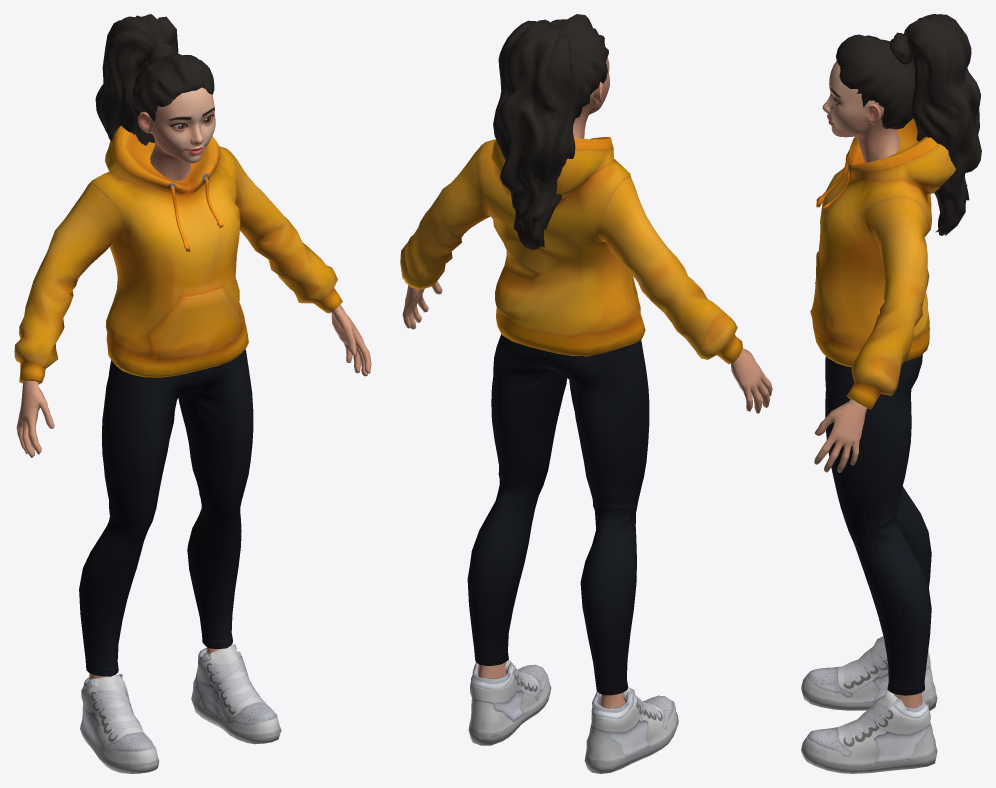
The picture shows the model from 3 angles, left to right: view 1: azimuth 30°, elevation 25°; view 2: azimuth 150°, elevation 25°; view 3: azimuth 270°, elevation 25°; orthographic projection. The views are drawn at different scales.
Visible parts, largest first — view 1: Wolf3D_Outfit_Top, Wolf3D_Outfit_Bottom, Wolf3D_Outfit_Footwear, Wolf3D_Hair, Wolf3D_Head, Wolf3D_Body; view 2: Wolf3D_Outfit_Top, Wolf3D_Outfit_Bottom, Wolf3D_Hair, Wolf3D_Outfit_Footwear, Wolf3D_Body, Wolf3D_Head; view 3: Wolf3D_Outfit_Top, Wolf3D_Outfit_Bottom, Wolf3D_Hair, Wolf3D_Outfit_Footwear, Wolf3D_Head, Wolf3D_Body.
Boxes of the visible parts, box(x1,y1,x2,y2) form: Wolf3D_Outfit_Top: box(14, 125, 342, 384); Wolf3D_Outfit_Bottom: box(79, 349, 253, 676); Wolf3D_Outfit_Footwear: box(80, 644, 281, 773); Wolf3D_Hair: box(95, 14, 214, 145); Wolf3D_Head: box(138, 87, 215, 180); Wolf3D_Body: box(16, 305, 371, 679); Wolf3D_Outfit_Top: box(400, 137, 742, 363); Wolf3D_Outfit_Bottom: box(467, 334, 649, 695); Wolf3D_Hair: box(493, 14, 608, 250); Wolf3D_Outfit_Footwear: box(468, 659, 678, 773); Wolf3D_Body: box(402, 281, 772, 708); Wolf3D_Head: box(573, 57, 609, 138); Wolf3D_Outfit_Top: box(810, 118, 955, 409); Wolf3D_Outfit_Bottom: box(825, 354, 931, 695); Wolf3D_Hair: box(836, 14, 981, 235); Wolf3D_Outfit_Footwear: box(801, 636, 937, 773); Wolf3D_Head: box(822, 61, 900, 162); Wolf3D_Body: box(814, 282, 922, 707).
Bounding box in the file's own units: 0.9279 × 1.82 × 0.4153.
